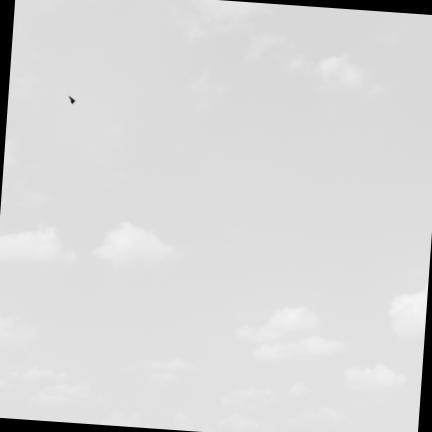Shahed: (68, 95, 76, 104)
